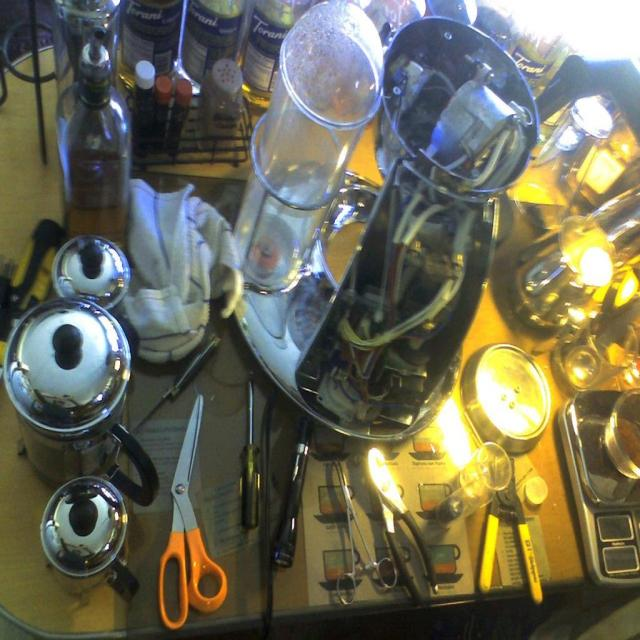scissors: (158, 393, 228, 630), (326, 447, 404, 608)
